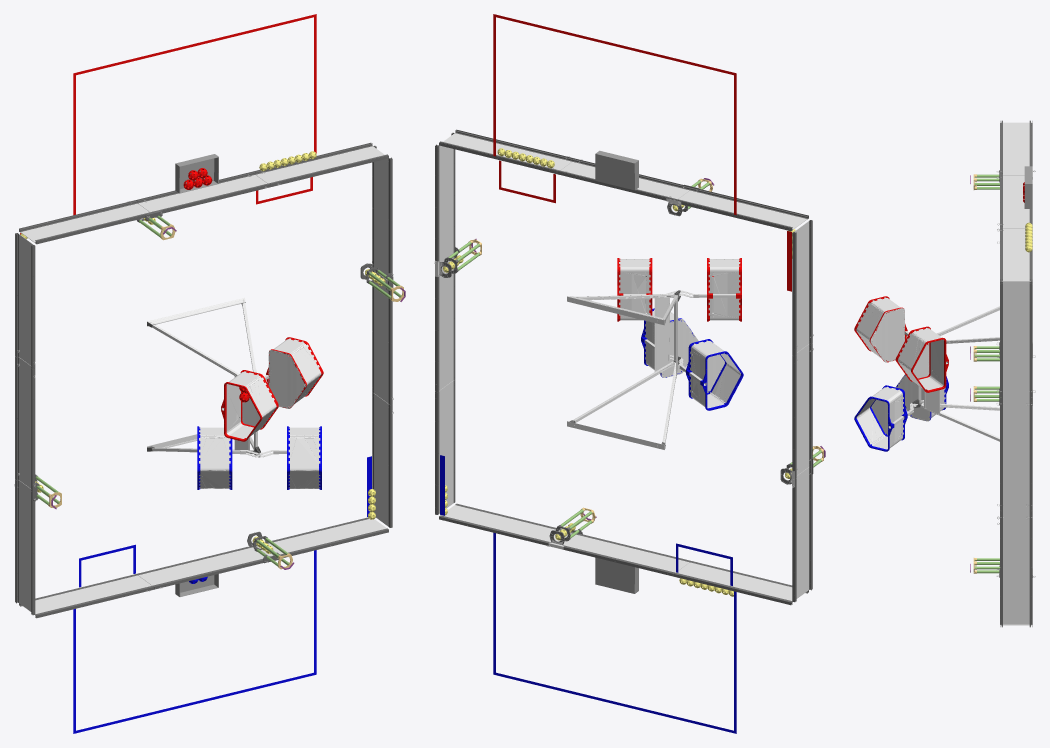
File: field.glb
The picture shows the model from 3 angles, left to right: view 1: azimuth 30°, elevation 25°; view 2: azimuth 150°, elevation 25°; view 3: azimuth 270°, elevation 25°; orthographic projection. The views are drawn at different scales.
Parts seen in each view (by area): view 1: FTC Field Side Glass 11in (×12), am-5869: Hive Goal Top Skin (×4), am-5871: Hive Goal Back Skin, am-5888: Hive Goal Bottom Skin, am-5706 Artifact Tray__Fillet1, Gaffer Tape, Blue, 1in Wide, 94.82in Long, Gaffer Tape, Red, 1in Wide, 94.82in Long; view 2: FTC Field Side Glass 11in (×12), am-5888: Hive Goal Bottom Skin (×3), am-5706 Artifact Tray__Fillet1 (×2), am-5877: ACM Panel, am-5871: Hive Goal Back Skin, Gaffer Tape, Blue, 1in Wide, 94.82in Long, Gaffer Tape, Red, 1in Wide, 94.82in Long, am-5869: Hive Goal Top Skin, am-5878: Sheet Metal Foot Bar, am-5888-red1: Red Goal April Tag (Audience); view 3: FTC Field Side Glass 11in (×6), am-5871: Hive Goal Back Skin (×4), am-2556a: FTC Rail with Rivet Holes (×6), am-5869: Hive Goal Top Skin (×3), am-5888: Hive Goal Bottom Skin (×2), am-5866-blue: Blue Goal Rib, am-5866-red: Red Goal Rib, am-5706 Artifact Tray__Fillet1, am-5883: Panel Sticker.
Part boxes in pixels (bbox=[...]): FTC Field Side Glass 11in (×12): bbox=[18, 146, 388, 614]; am-5869: Hive Goal Top Skin (×4): bbox=[199, 344, 321, 488]; am-5871: Hive Goal Back Skin: bbox=[268, 350, 306, 408]; am-5888: Hive Goal Bottom Skin: bbox=[226, 371, 260, 438]; am-5706 Artifact Tray__Fillet1: bbox=[175, 154, 218, 193]; Gaffer Tape, Blue, 1in Wide, 94.82in Long: bbox=[76, 672, 313, 733]; Gaffer Tape, Red, 1in Wide, 94.82in Long: bbox=[76, 14, 313, 75]; FTC Field Side Glass 11in (×12): bbox=[438, 133, 809, 600]; am-5888: Hive Goal Bottom Skin (×3): bbox=[619, 259, 740, 408]; am-5706 Artifact Tray__Fillet1 (×2): bbox=[595, 150, 638, 593]; am-5877: ACM Panel: bbox=[654, 294, 669, 371]; am-5871: Hive Goal Back Skin: bbox=[661, 319, 698, 377]; Gaffer Tape, Blue, 1in Wide, 94.82in Long: bbox=[496, 672, 733, 733]; Gaffer Tape, Red, 1in Wide, 94.82in Long: bbox=[496, 14, 733, 75]; am-5869: Hive Goal Top Skin: bbox=[711, 353, 740, 402]; am-5878: Sheet Metal Foot Bar: bbox=[567, 296, 665, 325]; am-5888-red1: Red Goal April Tag (Audience): bbox=[713, 272, 727, 317]; FTC Field Side Glass 11in (×6): bbox=[1001, 122, 1030, 624]; am-5871: Hive Goal Back Skin (×4): bbox=[870, 308, 930, 435]; am-2556a: FTC Rail with Rivet Holes (×6): bbox=[1000, 283, 1032, 625]; am-5869: Hive Goal Top Skin (×3): bbox=[856, 303, 925, 444]; am-5888: Hive Goal Bottom Skin (×2): bbox=[872, 328, 943, 449]; am-5866-blue: Blue Goal Rib: bbox=[854, 396, 894, 451]; am-5866-red: Red Goal Rib: bbox=[911, 337, 948, 392]; am-5706 Artifact Tray__Fillet1: bbox=[1024, 166, 1032, 208]; am-5883: Panel Sticker: bbox=[924, 370, 939, 415].
Bounding box in the file's own units: 144 × 251 × 67.7.
